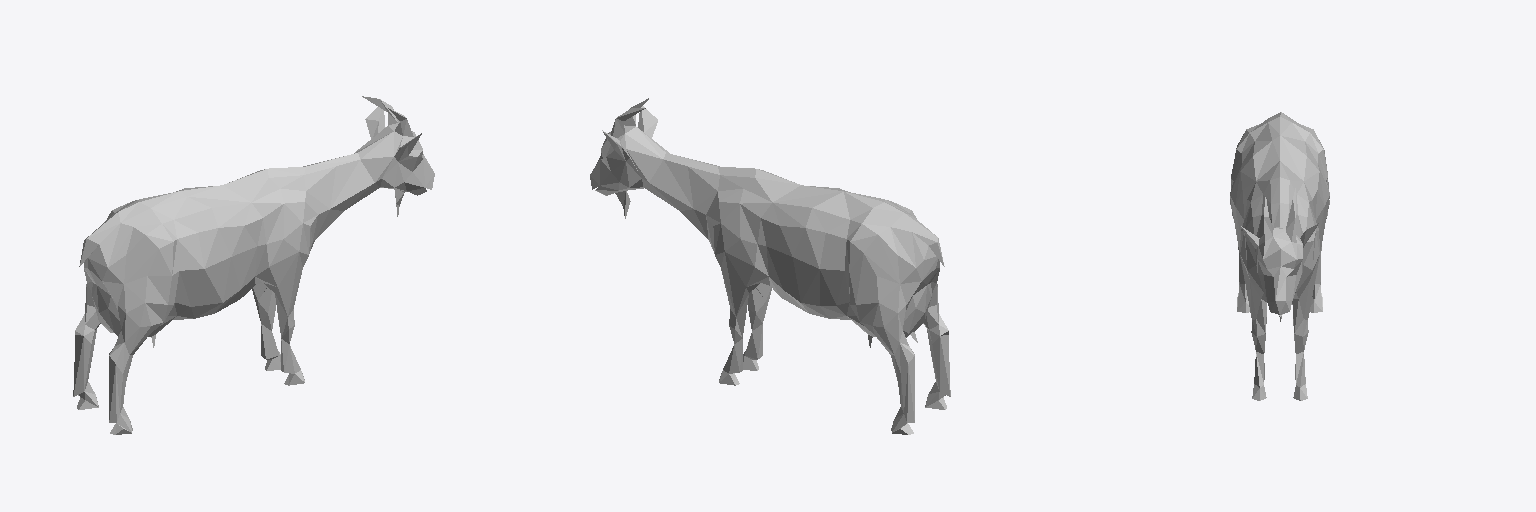
File: goat.obj
3 renders of one model, left to right at view 1: azimuth 30°, elevation 25°; view 2: azimuth 150°, elevation 25°; view 3: azimuth 270°, elevation 25°, orthographic.
Visible parts, largest first — view 1: grp1_grp1_2; view 2: grp1_grp1_2; view 3: grp1_grp1_2.
Part boxes in pixels (left/top/right/bottom): grp1_grp1_2: left=73, top=96, right=434, bottom=434; grp1_grp1_2: left=590, top=98, right=950, bottom=434; grp1_grp1_2: left=1230, top=112, right=1329, bottom=400.
Bounding box in the file's own units: 2.39 × 1.64 × 0.5885.